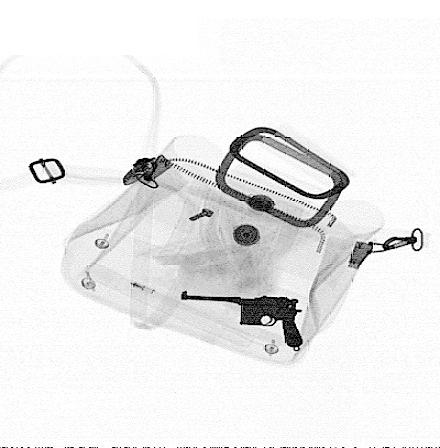Gun: (181, 290, 304, 347)
